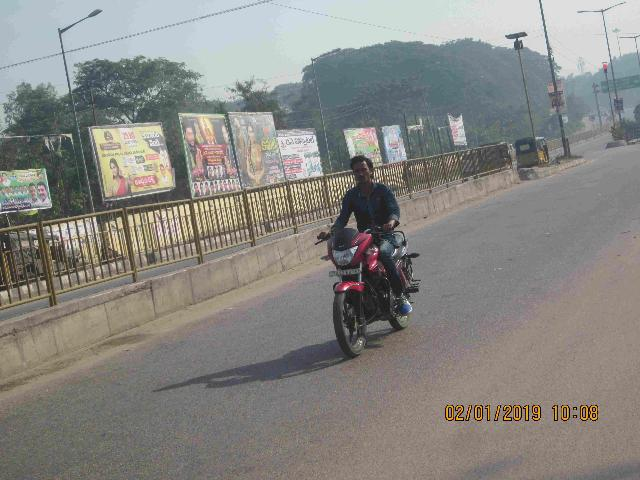motor: (317, 225, 421, 359)
non-helm: (352, 157, 375, 184)
